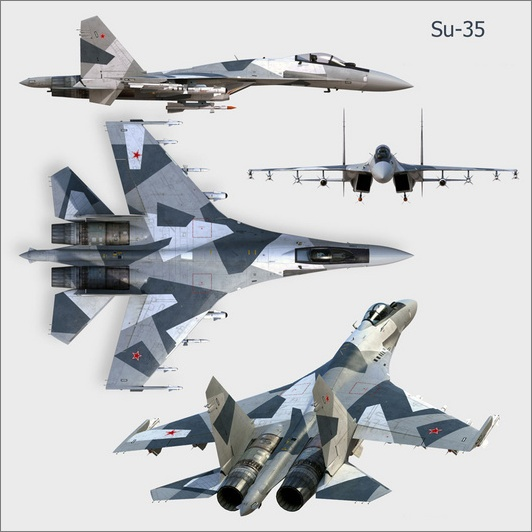airplane: (7, 116, 414, 389), (111, 295, 499, 516), (12, 12, 412, 111), (241, 113, 521, 197)
